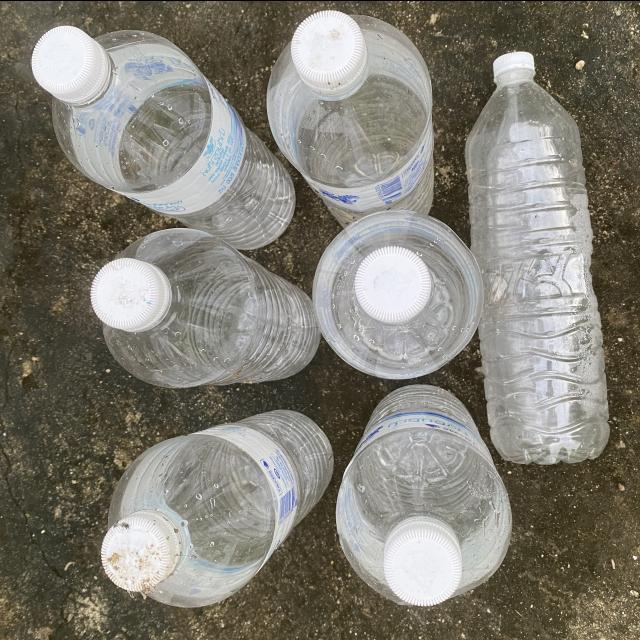plastik: (466, 51, 609, 464), (32, 25, 295, 248), (101, 409, 333, 606), (336, 384, 512, 605), (91, 228, 319, 387), (267, 10, 433, 225), (313, 210, 483, 378)
